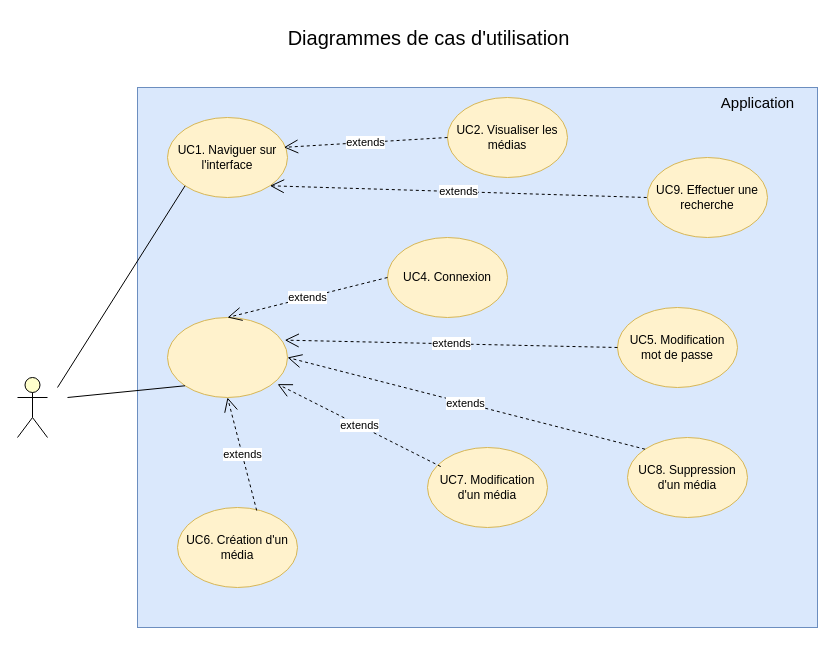
Some shapes in this 835 by 645 pixel diagram are drawn without their labels. The shapes that lost their labels are listed below. From the top down, each one's box as (x1, y1, x2, y2) in pixels, then its label:
(166, 316, 288, 398): UC3. Création de compte
(16, 376, 48, 438): User
